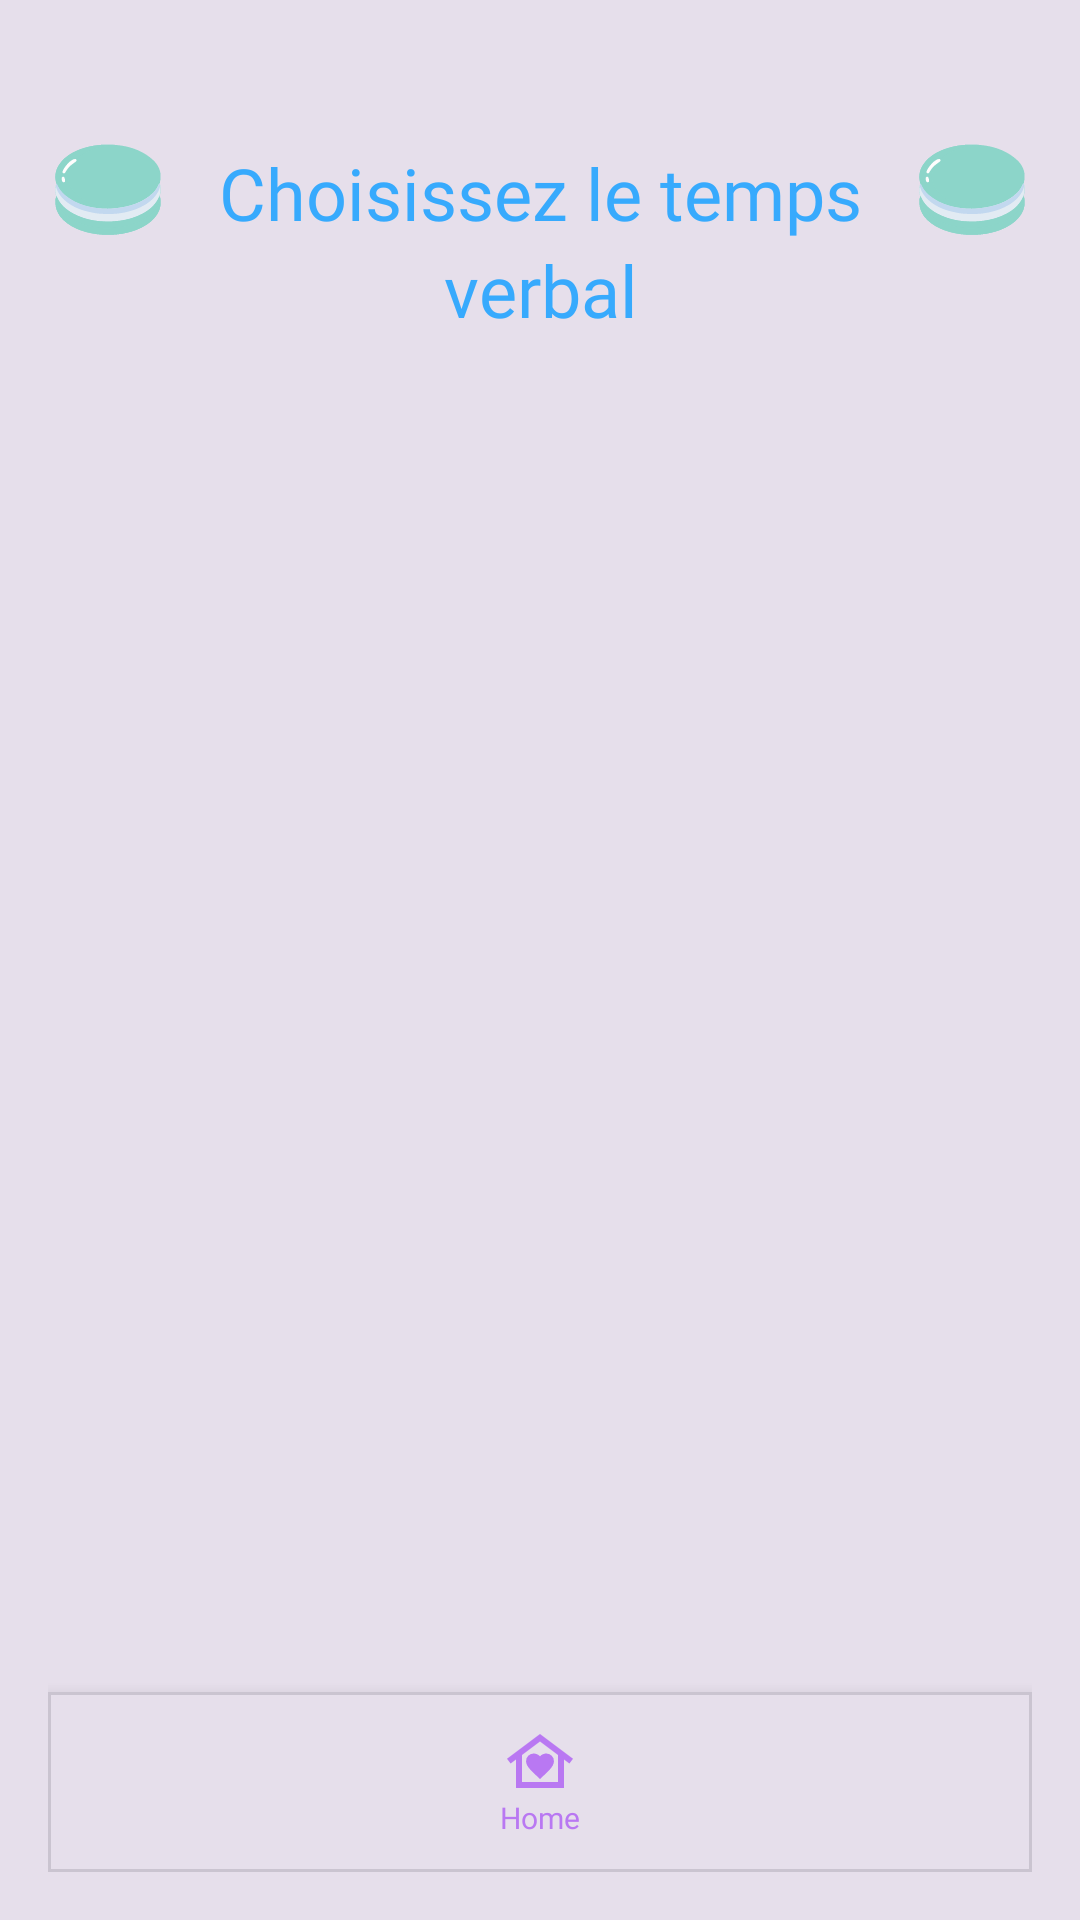

Icon bounding boxes for this 1080*1920 phone screenshot, format [x1,y1,x2,y2]:
Macaron décoratif: [55,144,161,235], [919,144,1025,235]
